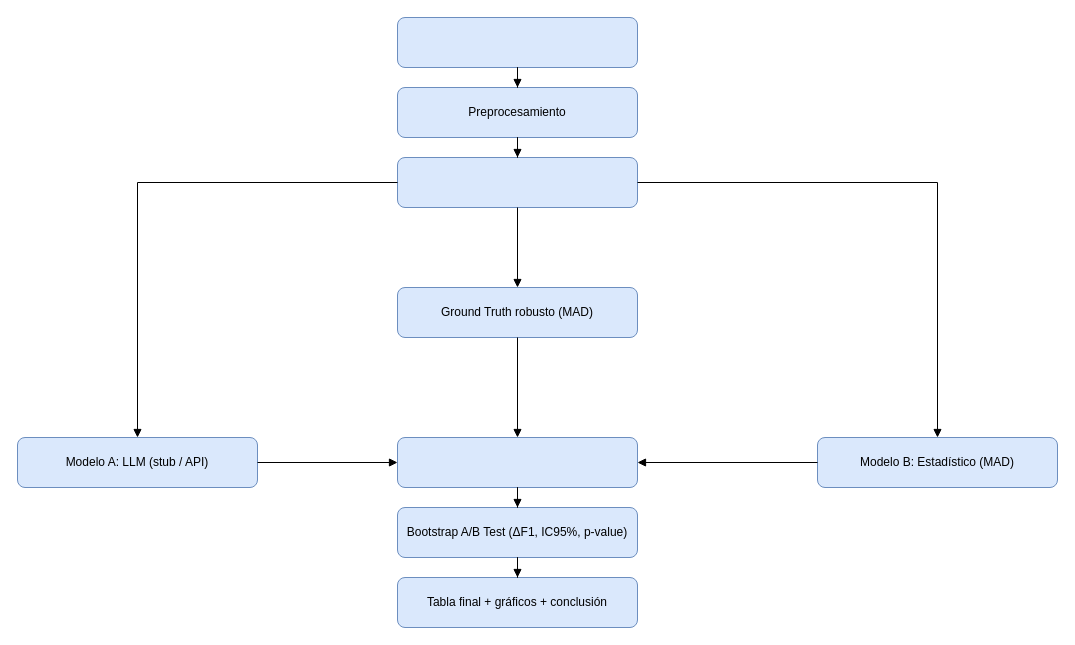
Some shapes in this 1075 by 645 pixel diagram are drawn without their labels. Each missing label, with the centre of its shape:
"Evaluación" belongs at (x=517, y=462).
"precios_historicos.csv" belongs at (x=517, y=42).
"Ventanas por ITEM_ID" belongs at (x=517, y=182).
